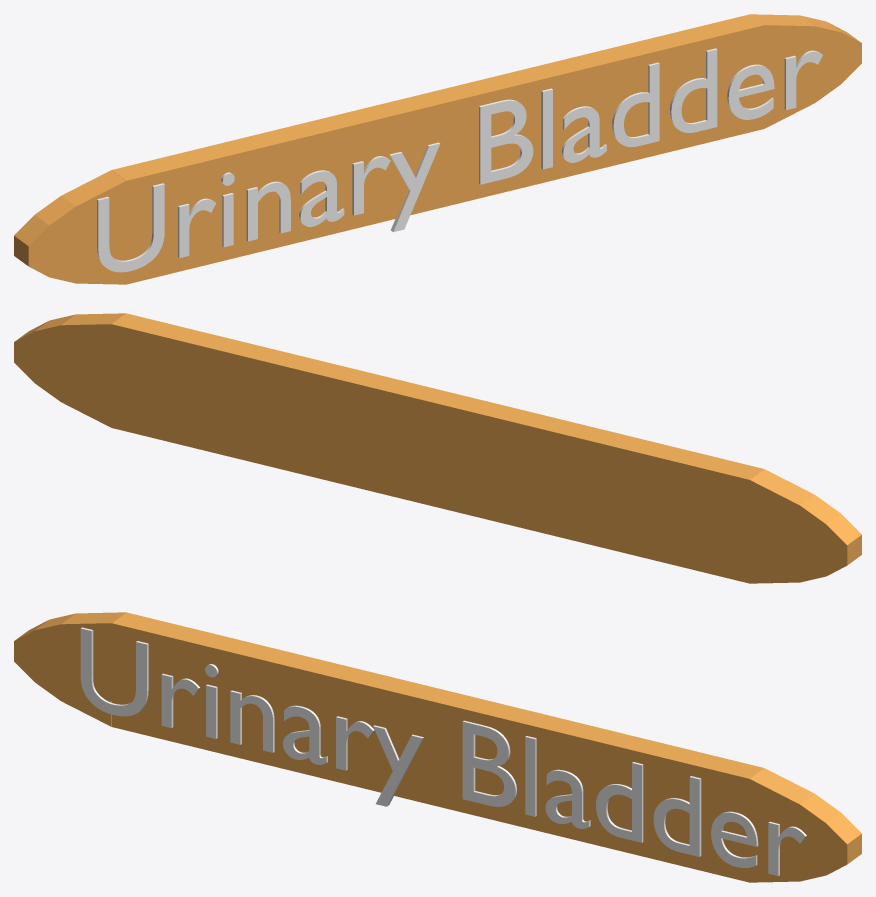
Rendered from txtUrinaryBladder.fbx.
3 views of the same model, one above another, from view 1: azimuth 30°, elevation 25°; view 2: azimuth 150°, elevation 25°; view 3: azimuth 330°, elevation 25° (orthographic).
Parts seen in each view (by area): view 1: TagContainer.116, Text.118; view 2: TagContainer.116; view 3: TagContainer.116, Text.118.
Boxes of the visible parts, x1=… form: TagContainer.116: x1=14, y1=14, x2=861, y2=284; Text.118: x1=97, y1=48, x2=822, y2=272; TagContainer.116: x1=14, y1=313, x2=861, y2=583; TagContainer.116: x1=14, y1=612, x2=861, y2=882; Text.118: x1=80, y1=627, x2=806, y2=876.
Bounding box in the file's own units: 347 × 45.81 × 11.73.
